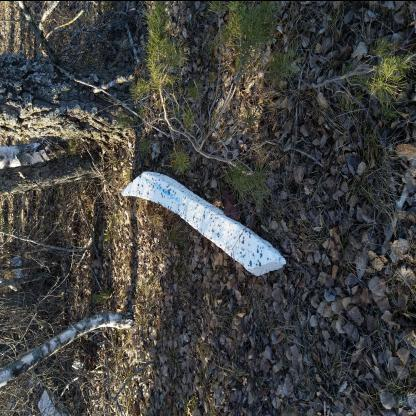kopuk: (122, 171, 289, 277)
